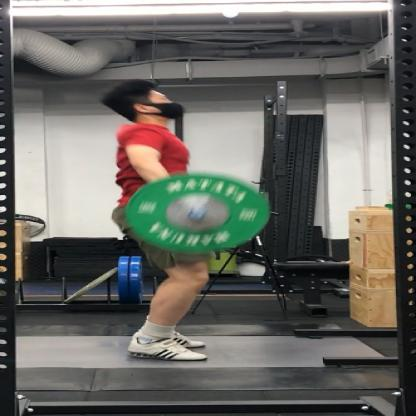Barbell: (117, 167, 282, 255)
